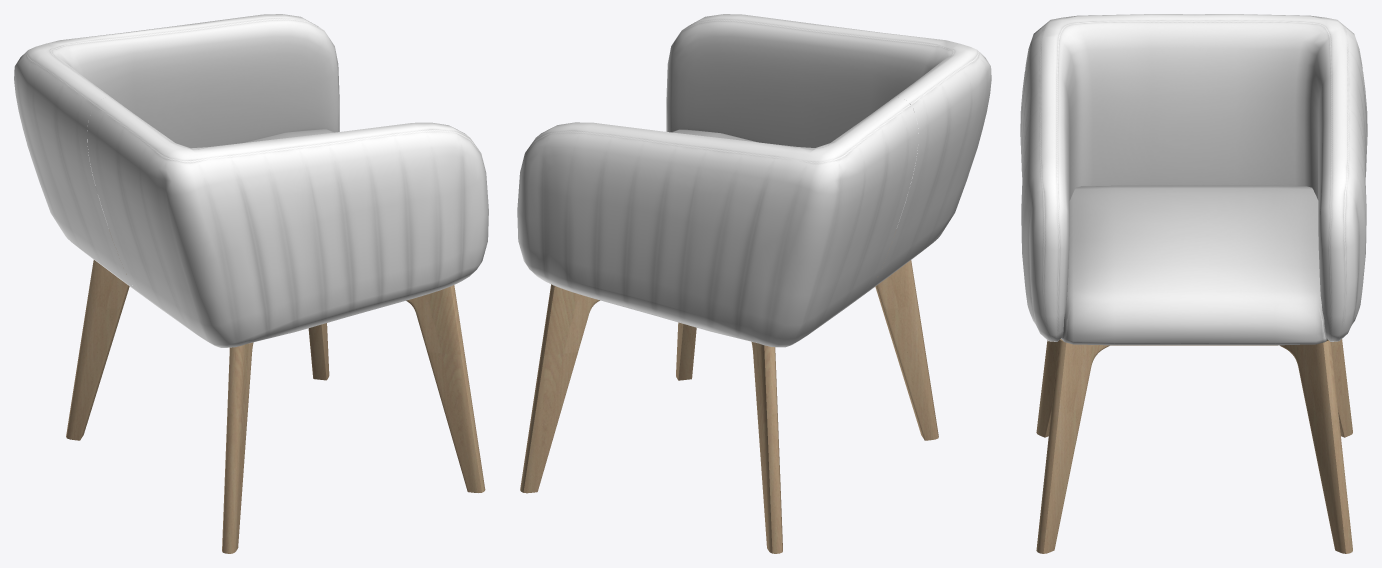
Rendered from Chair2.glb.
3 views of the same model, side by side, from view 1: azimuth 30°, elevation 25°; view 2: azimuth 150°, elevation 25°; view 3: azimuth 270°, elevation 25° (orthographic). The views are drawn at different scales.
Visible parts, largest first — view 1: SM_WingChair; view 2: SM_WingChair; view 3: SM_WingChair.
Boxes of the visible parts, left/top/right/bottom form: SM_WingChair: left=14, top=14, right=488, bottom=553; SM_WingChair: left=517, top=14, right=991, bottom=553; SM_WingChair: left=1020, top=14, right=1367, bottom=553.
Size of the model in its own units: 2.2 by 2.62 by 2.09.
2 materials, 2 textured.
